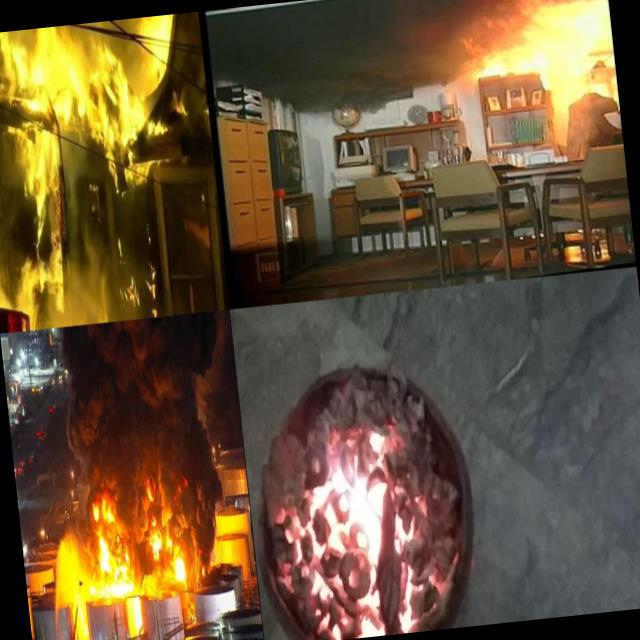fire: (0, 16, 182, 316), (259, 407, 443, 640), (472, 0, 615, 79), (85, 540, 132, 598), (126, 587, 145, 634), (73, 589, 90, 640), (148, 522, 164, 562), (170, 554, 188, 582), (103, 504, 117, 532), (89, 498, 102, 525)
smoke: (137, 312, 225, 522), (51, 320, 146, 502)
